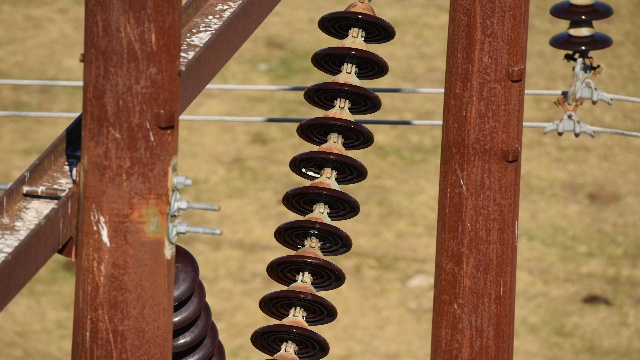insulator_unspecified: (253, 11, 397, 357), (161, 244, 229, 359), (546, 0, 613, 54)
